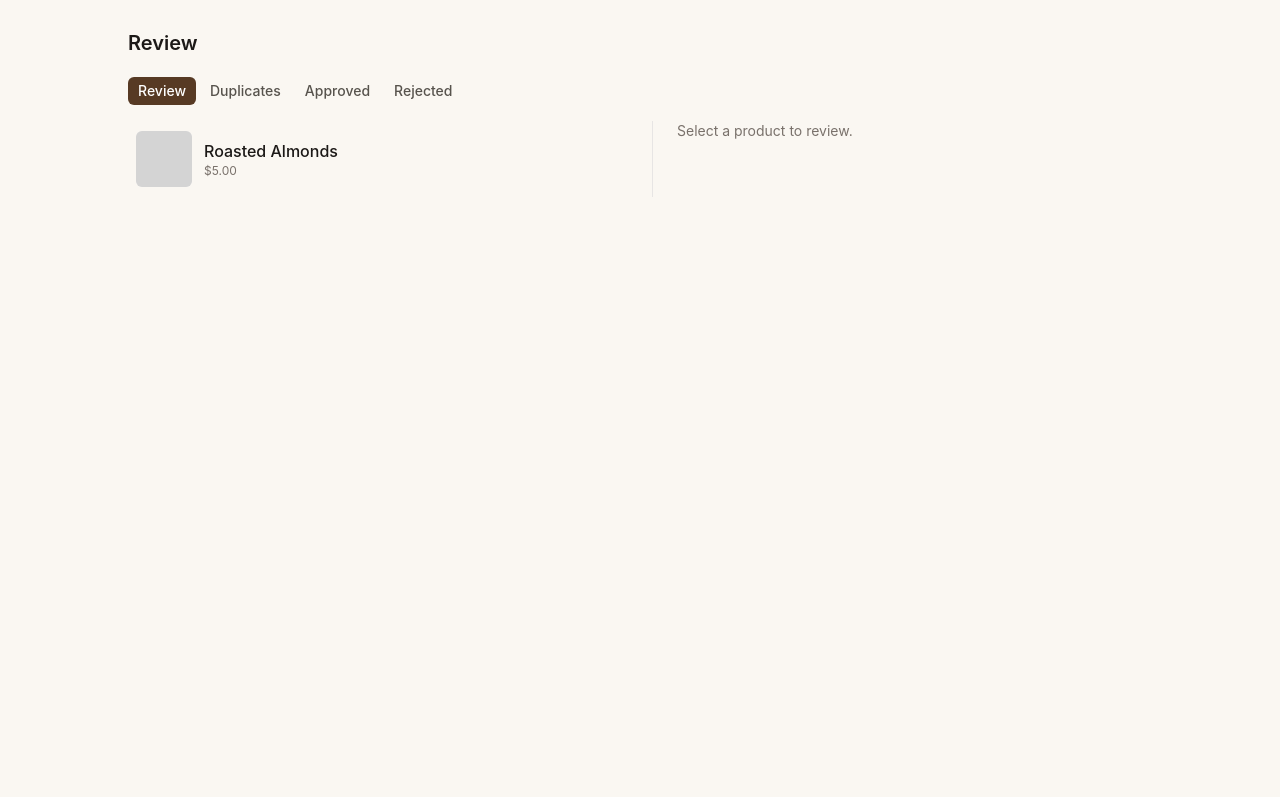
Test: ReviewPage › warns inline when package weight is filled in for a weight-mode product
Click the text "Roasted Almonds": [271, 151] box left=204, top=141, right=338, bottom=161
(page scrolled)
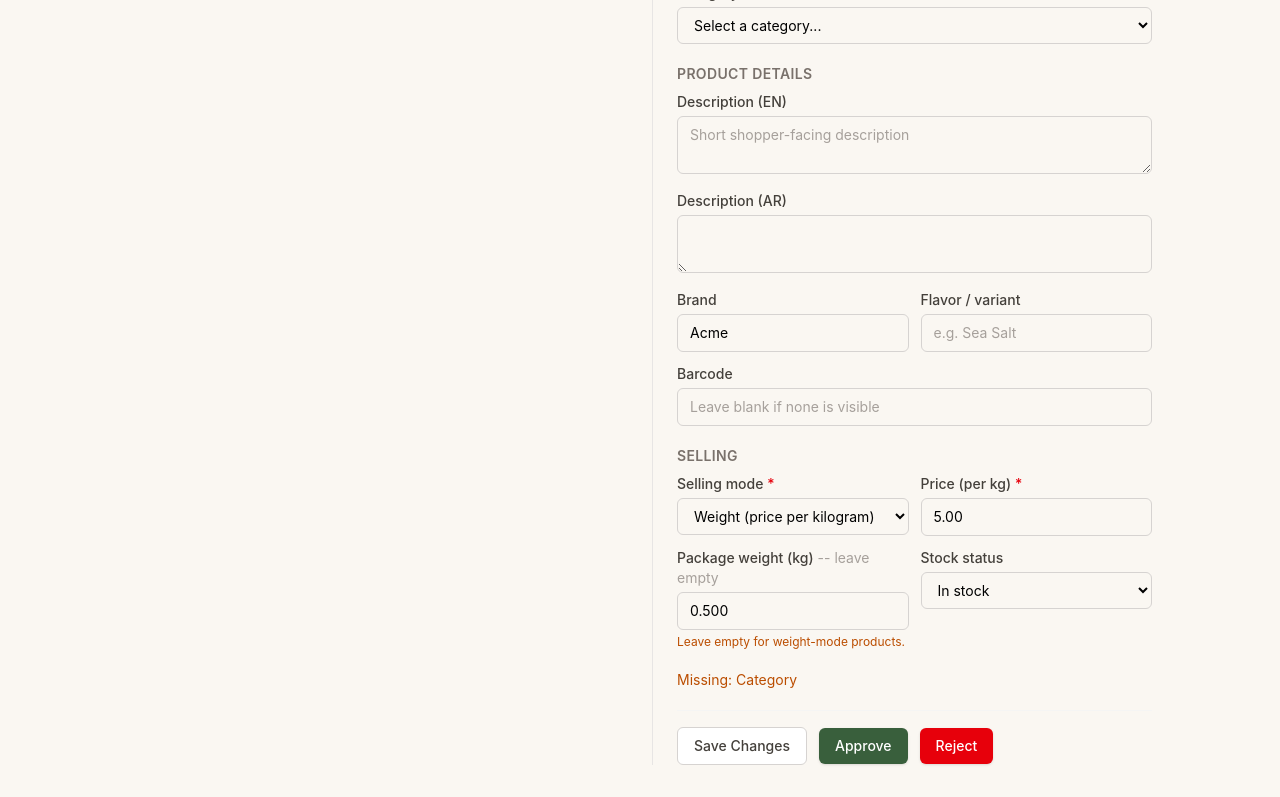
expect the text "Leave empty for weight-mode products." is shown: met, box left=677, top=634, right=908, bottom=650
